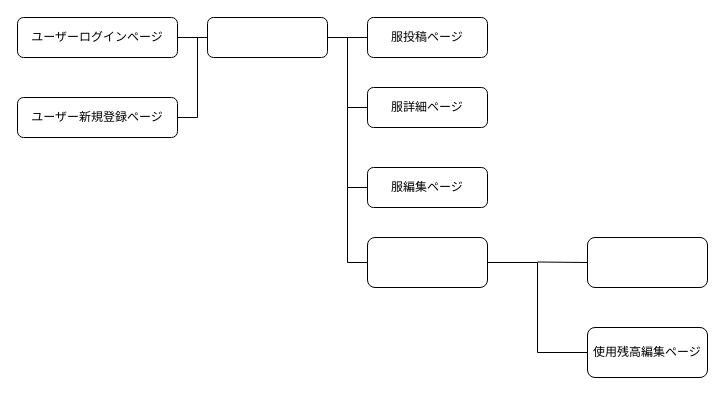
The diagram is 725 pixels wide and 395 high, and some of its shapes have lost their labels. Each missing label, with the box of its shape:
使用残高登録ページ: (586, 236, 708, 288)
使用残高表示ページ: (366, 236, 488, 288)
服一覧ページ: (206, 16, 328, 58)
